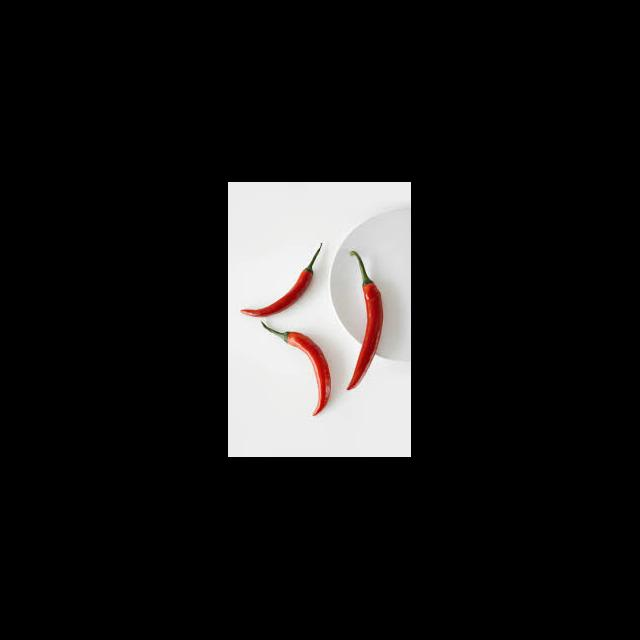chili_pepper: (262, 326, 332, 416), (240, 246, 322, 322), (348, 252, 384, 390)
